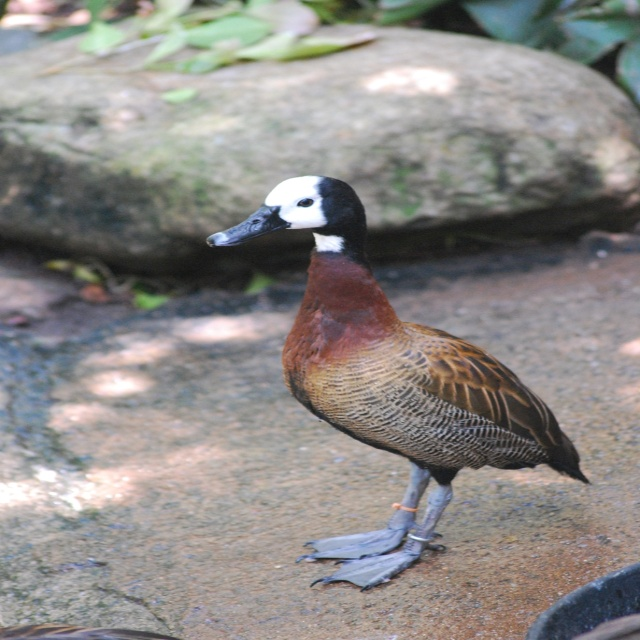Duck: (227, 166, 597, 599)
